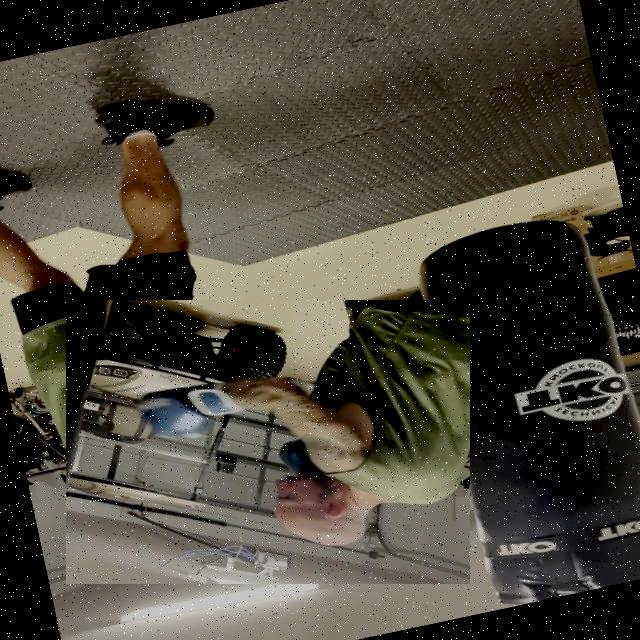punch: (66, 300, 470, 584)
